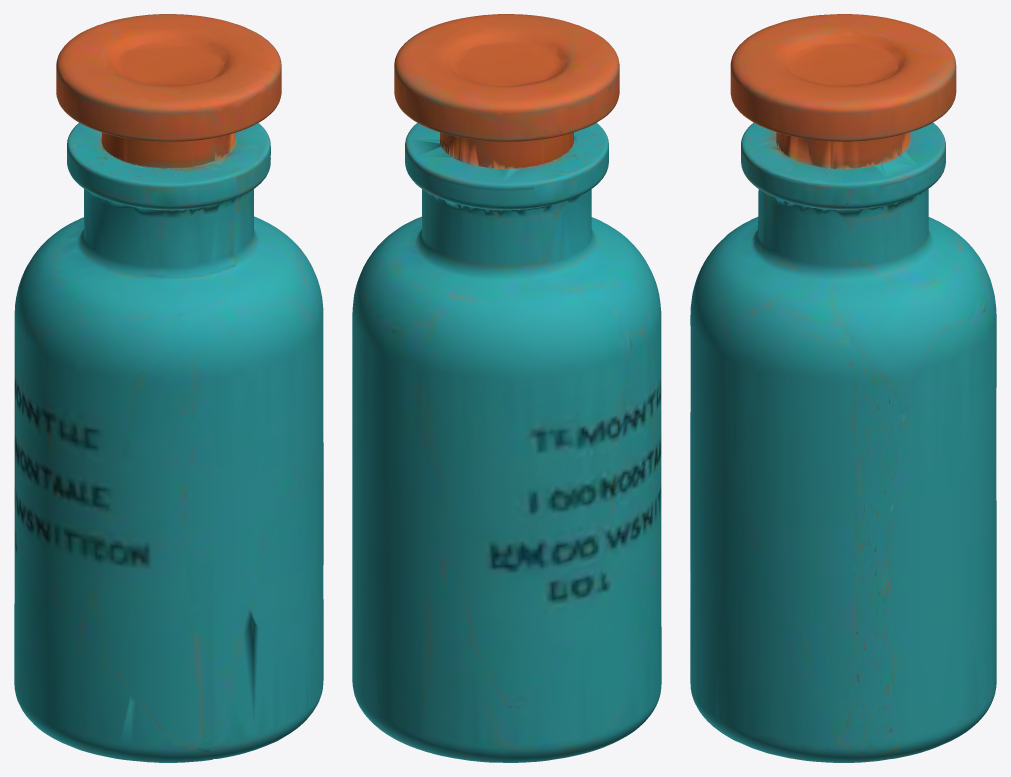
The model's file is louis-vuitton-moon-tale.glb.
The picture shows the model from 3 angles, left to right: view 1: azimuth 30°, elevation 25°; view 2: azimuth 150°, elevation 25°; view 3: azimuth 270°, elevation 25°; orthographic projection.
Parts seen in each view (by area): view 1: material; view 2: material; view 3: material.
Boxes of the visible parts, x1=… form: material: x1=14, y1=14, x2=323, y2=762; material: x1=352, y1=14, x2=661, y2=762; material: x1=690, y1=14, x2=996, y2=762.
Size of the model in its own units: 0.4896 by 1.13 by 0.4829.
1 material, 1 textured.
